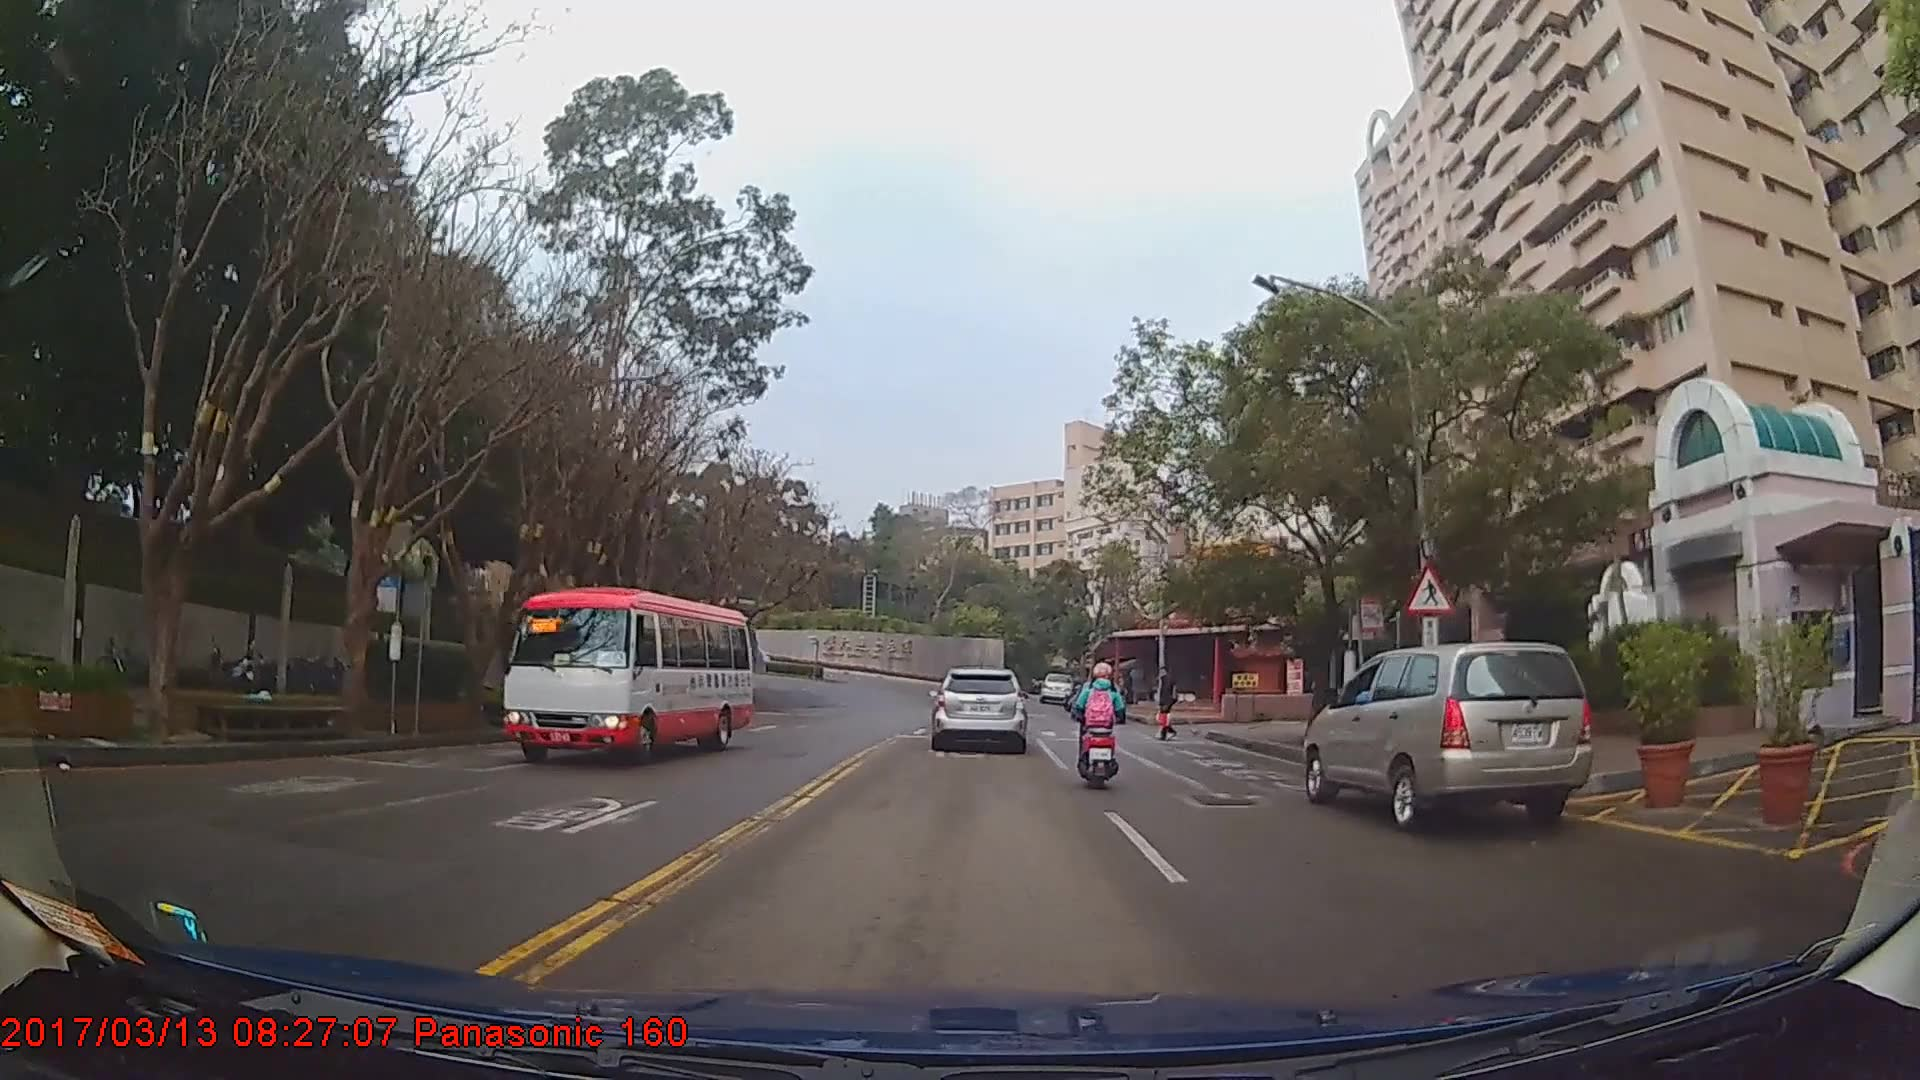pedestrian: (1154, 668, 1181, 746)
rider: (1070, 665, 1126, 794)
vehicle: (1302, 639, 1594, 832), (494, 586, 750, 766), (926, 667, 1027, 754), (1038, 672, 1073, 702)
